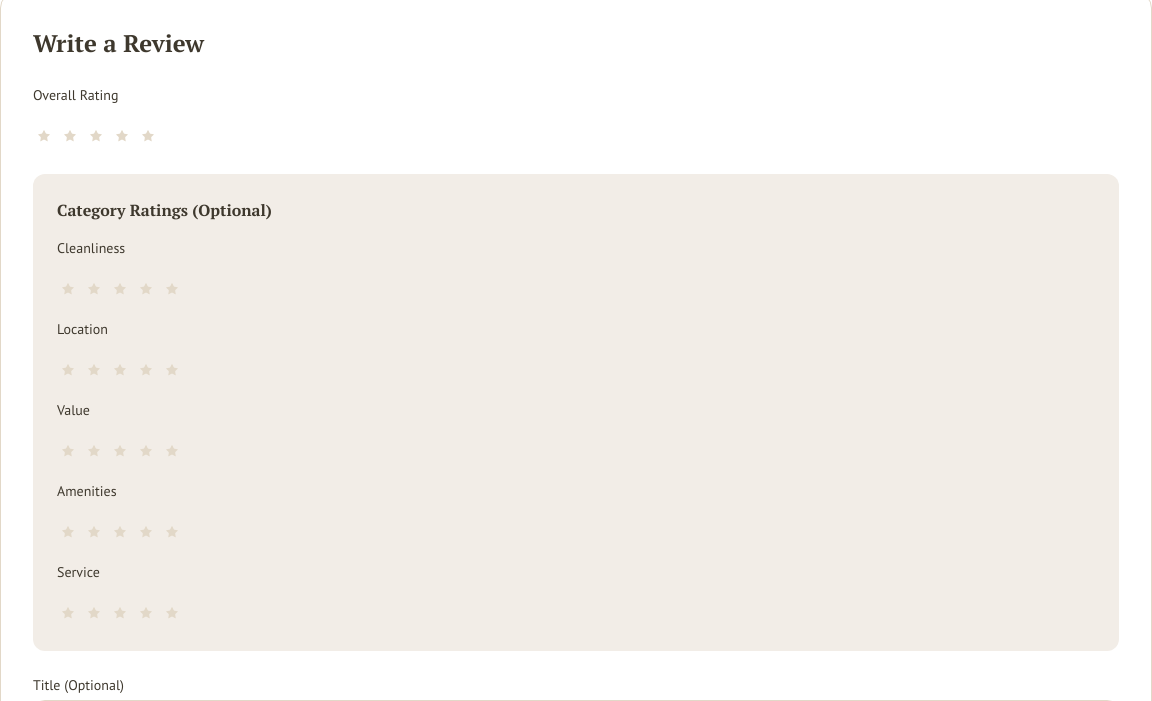
ReviewForm › should disable submit button while loading
# Select overall rating
What coordinates should you click on to do the following:
click the button named "Overall Rating 5 stars"
I would click on:
 (148, 130)
Its box is [137,110,159,150].
(page scrolled)
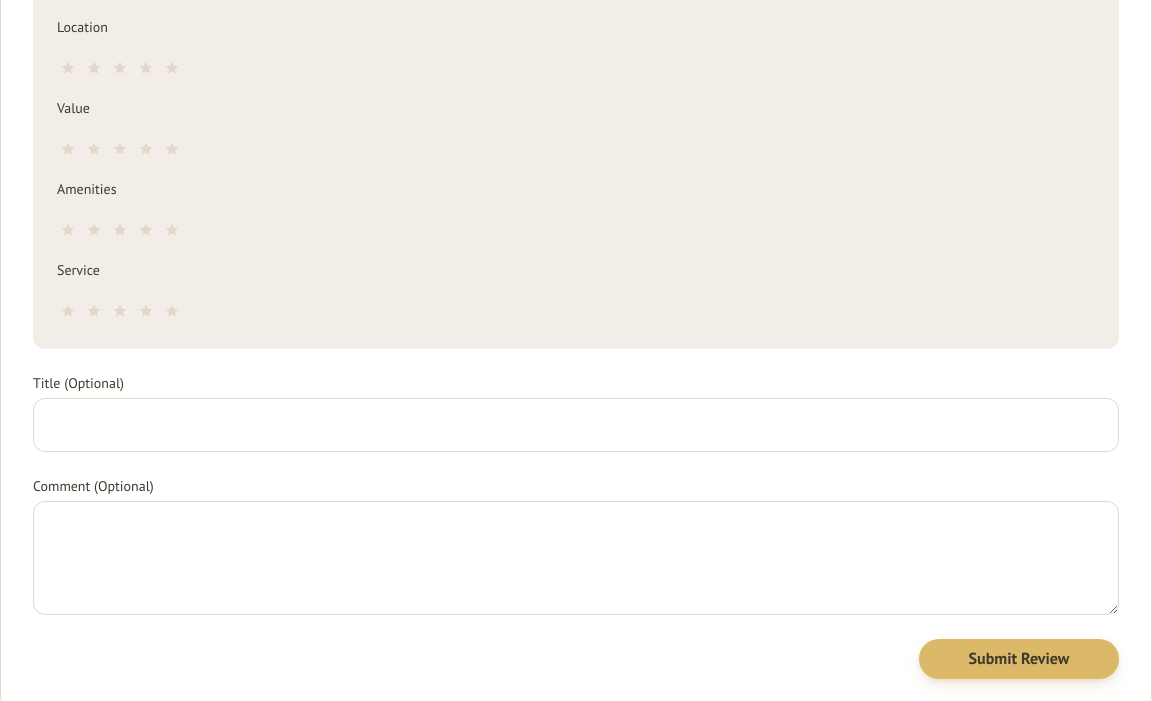
What coordinates should you click on to do the following:
click the button "Submit Review"
I would click on:
 (1019, 659)
Its box is [919,639,1119,679].
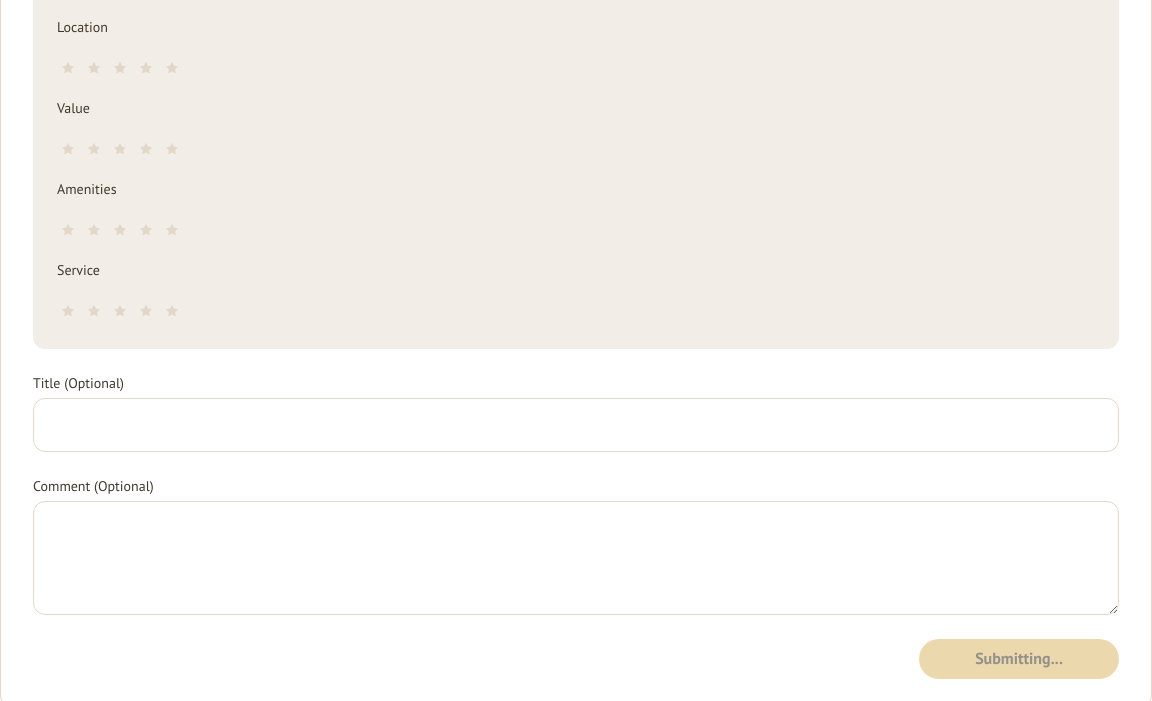
Expected: the button "Submit Review" is disabled, [919,639,1119,679]
